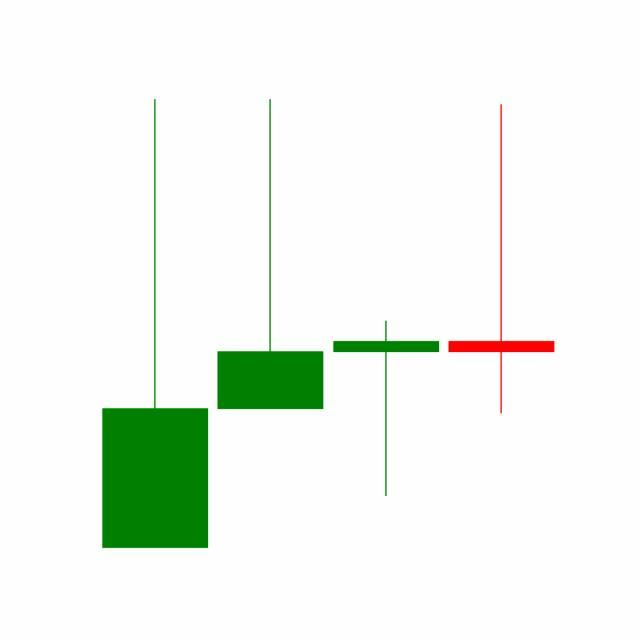Dragonfly Doji: (329, 319, 445, 499)
